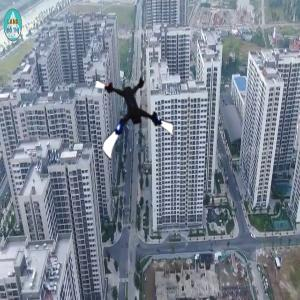drone: (94, 74, 179, 159)
